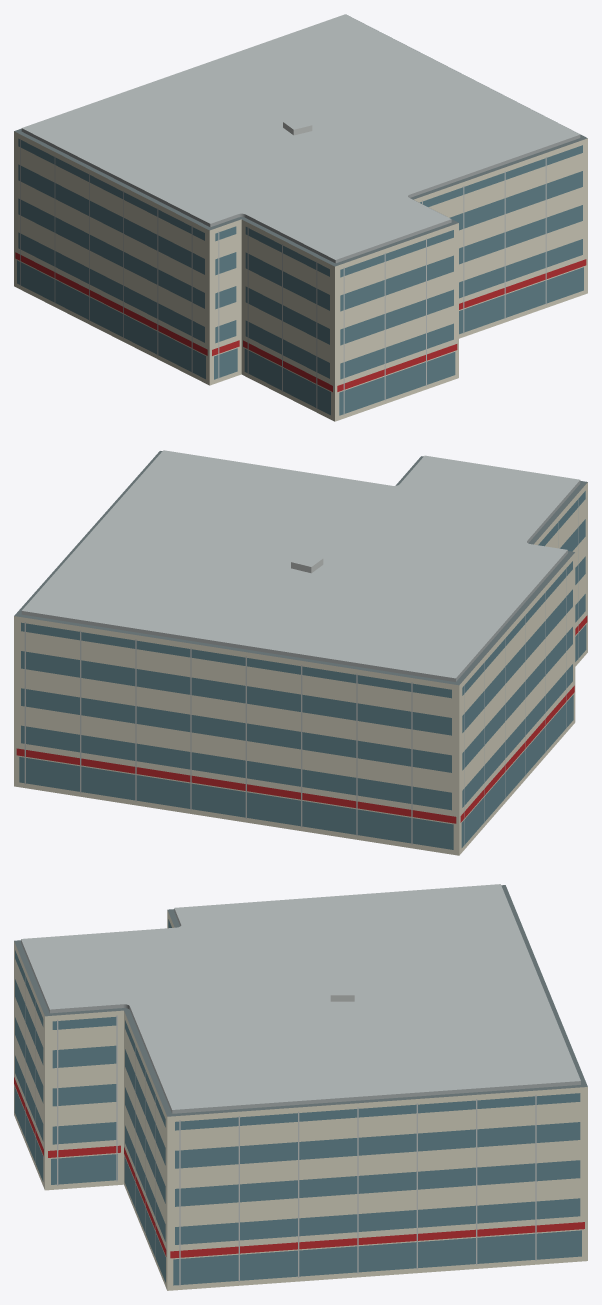
3 renders of one model, top to bottom at view 1: azimuth 30°, elevation 25°; view 2: azimuth 150°, elevation 25°; view 3: azimuth 270°, elevation 25°, orthographic. The views are drawn at different scales.
Parts seen in each view (by area): view 1: drugstore-mori-imajuku; view 2: drugstore-mori-imajuku; view 3: drugstore-mori-imajuku.
Boxes of the visible parts, x1,y1,x2,y2 form: drugstore-mori-imajuku: [14, 14, 587, 421]; drugstore-mori-imajuku: [14, 450, 587, 855]; drugstore-mori-imajuku: [14, 884, 587, 1290].
Size of the model in its own units: 45.6 by 16.92 by 47.71.
